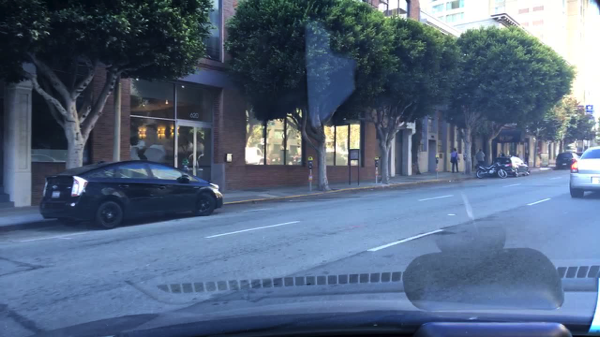car: (38, 158, 223, 228), (569, 144, 598, 200), (492, 154, 530, 176), (553, 151, 579, 169)
motor: (476, 163, 507, 180)
person: (448, 146, 459, 175), (476, 148, 485, 162)
traffic sign: (347, 150, 359, 161)
